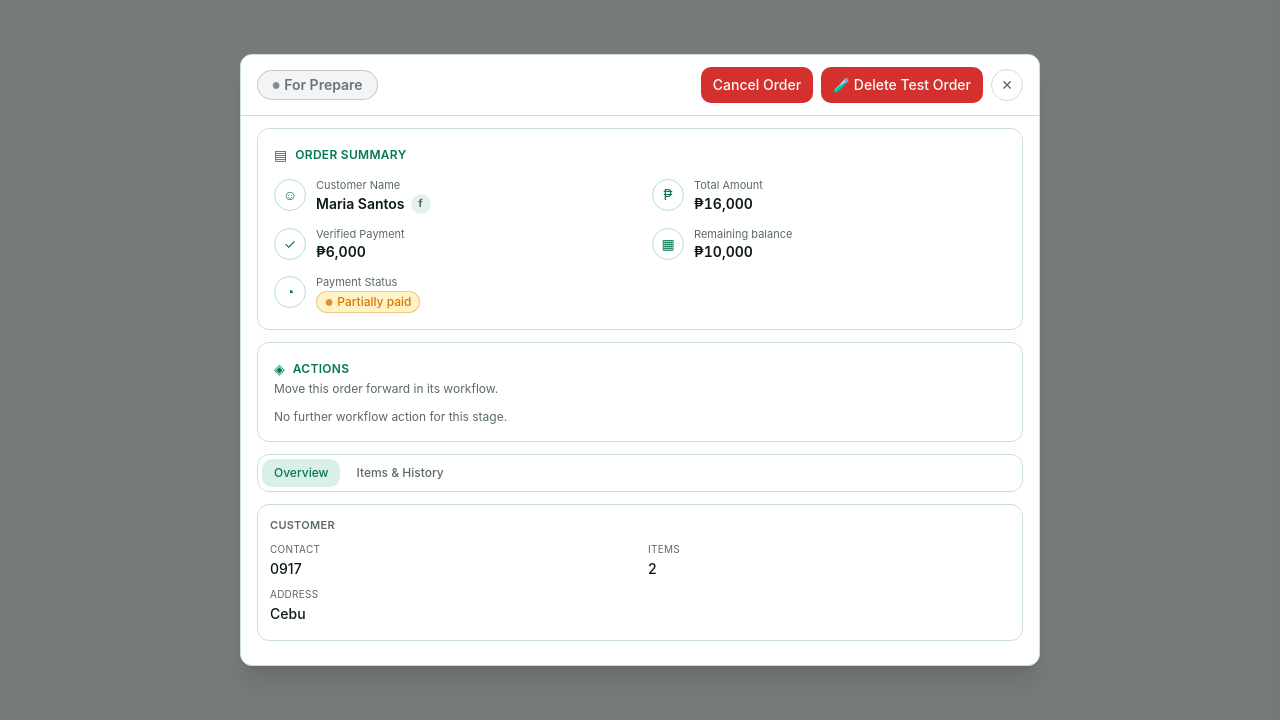
OrderDetailsModal › offers "Delete Test Order" to the Owner ONLY for a test order
The width and height of the screenshot is (1280, 720).
Click the button with test id "delete-test-order" at coordinates (902, 85), box [821,67,983,103]
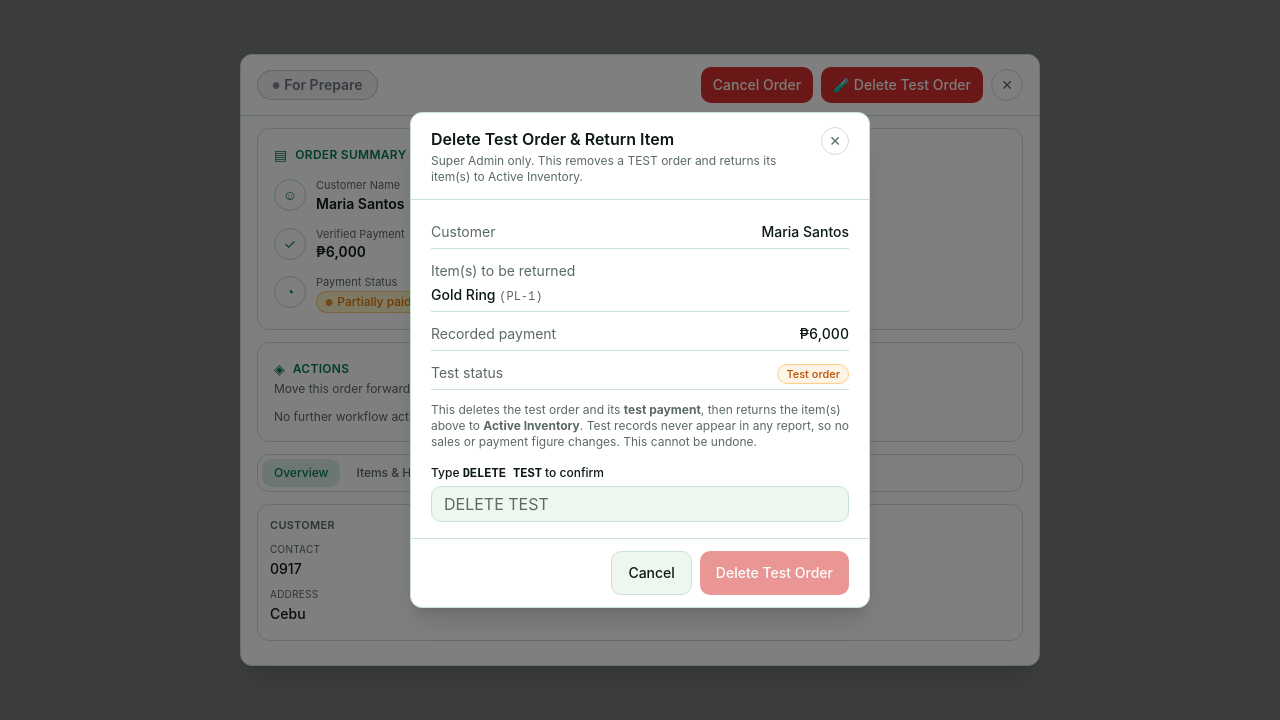
Now the field with placeholder "DELETE TEST" is shown, box [431,486,849,522]
Now the button with test id "delete-test-order-confirm" is disabled, box [700,551,849,595]
